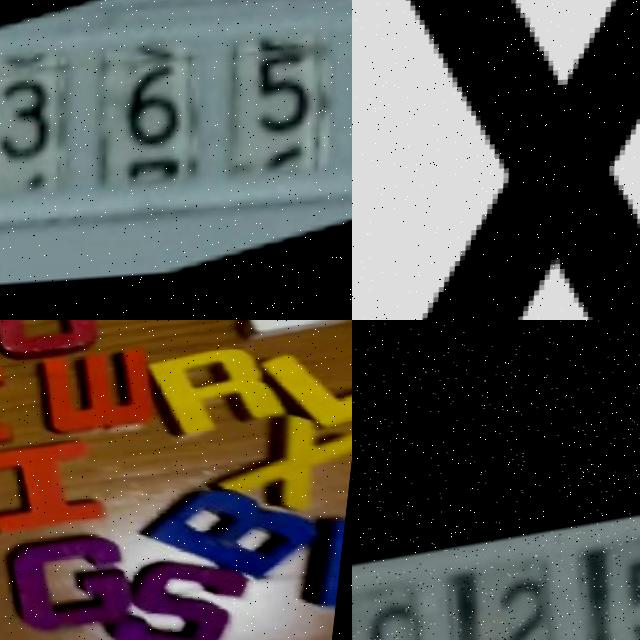0: (354, 587, 441, 640)
2: (485, 567, 570, 640)
3: (0, 66, 65, 165)
5: (240, 37, 333, 141), (615, 543, 640, 640)
6: (114, 54, 196, 152)
B: (153, 484, 325, 584)
E: (0, 363, 31, 456)
G: (7, 525, 142, 629)
I: (0, 438, 101, 534)
L: (266, 347, 352, 430)
R: (152, 344, 296, 436)
S: (132, 557, 270, 640)
U: (0, 320, 117, 360)
W: (35, 350, 171, 435)
X: (352, 0, 640, 320), (226, 414, 352, 507)
Z: (225, 320, 352, 342)
